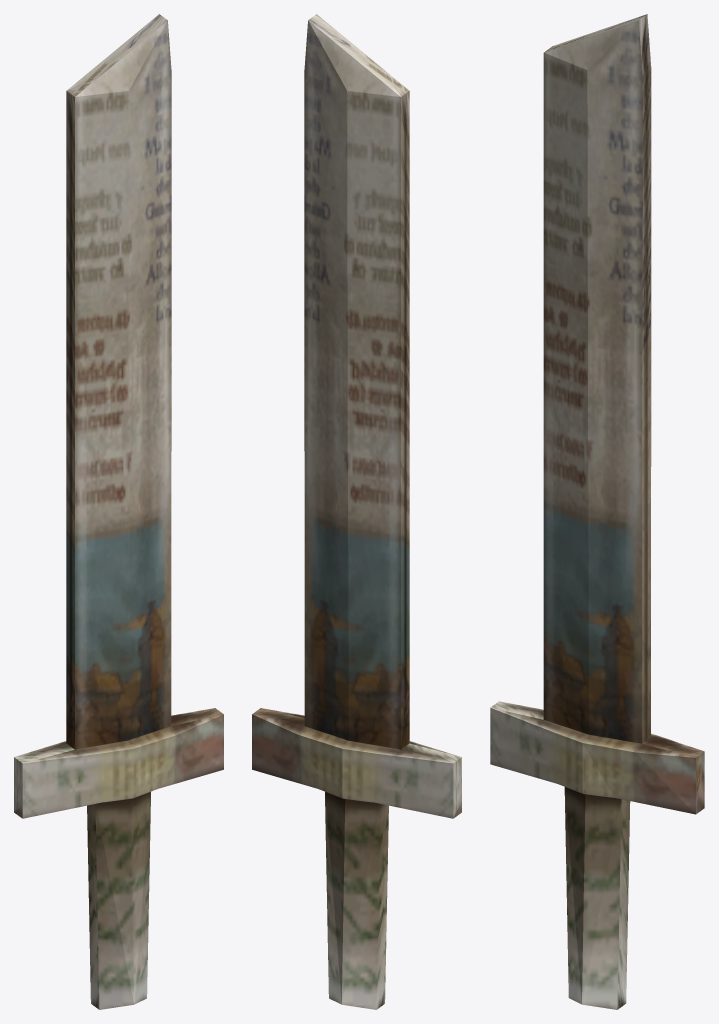
Rendered from Wolf_paperSword.obj.
3 renders of one model, left to right at view 1: azimuth 30°, elevation 25°; view 2: azimuth 150°, elevation 25°; view 3: azimuth 330°, elevation 25°, orthographic. The views are drawn at different scales.
Visible parts, largest first — view 1: Wolf_paperSword_tri; view 2: Wolf_paperSword_tri; view 3: Wolf_paperSword_tri.
Boxes of the visible parts, <box> form: Wolf_paperSword_tri: <box>14,14,223,1009</box>; Wolf_paperSword_tri: <box>252,14,461,1009</box>; Wolf_paperSword_tri: <box>490,14,704,1009</box>.
Size of the model in its own units: 0.1733 by 0.8014 by 0.0453.
Materials: 1 (1 with a texture image).
